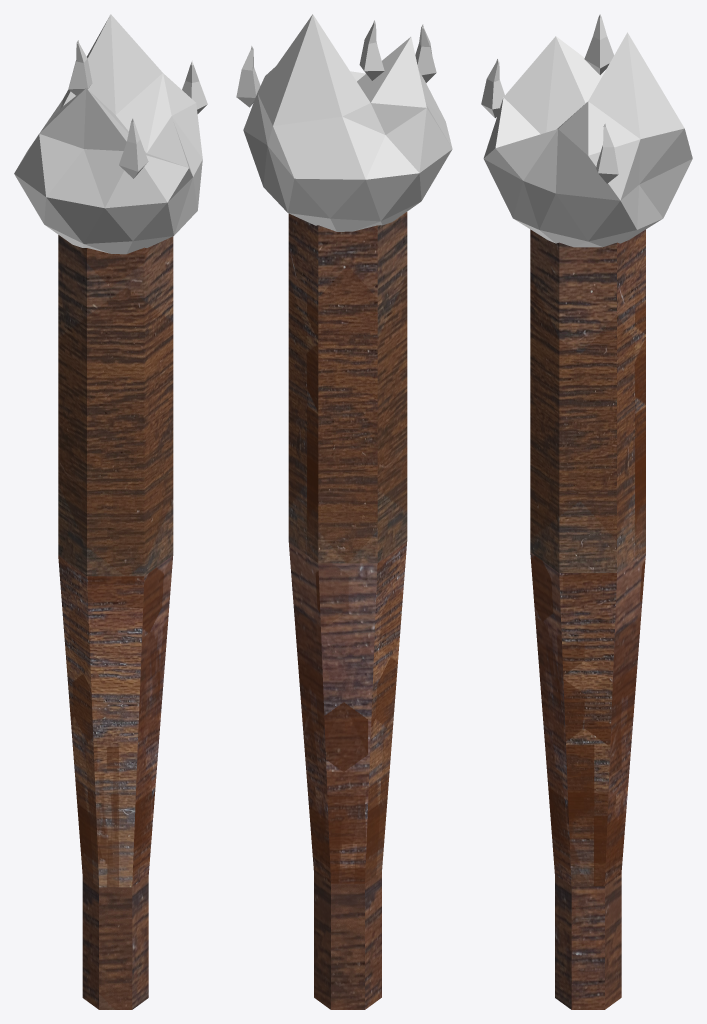
File: torch.fbx
3 views of the same model, side by side, from view 1: azimuth 30°, elevation 25°; view 2: azimuth 150°, elevation 25°; view 3: azimuth 270°, elevation 25° (orthographic). The views are drawn at different scales.
Parts seen in each view (by area): view 1: Cylinder, Icosphere, Cone.001, Cone, Cone.002; view 2: Cylinder, Icosphere, Cone, Cone.002, Cone.001; view 3: Cylinder, Icosphere, Cone, Cone.001, Cone.002.
Boxes of the visible parts, x1,y1,x2,y2 form: Cylinder: (58, 235, 173, 1009); Icosphere: (14, 14, 202, 254); Cone.001: (119, 118, 148, 178); Cone: (68, 40, 92, 95); Cone.002: (182, 61, 207, 113); Cylinder: (288, 212, 407, 1009); Icosphere: (243, 14, 452, 231); Cone: (359, 20, 384, 80); Cone.002: (236, 46, 260, 107); Cone.001: (415, 24, 436, 82); Cylinder: (530, 229, 645, 1009); Icosphere: (483, 32, 692, 247); Cone: (584, 14, 613, 74); Cone.001: (481, 58, 504, 117); Cone.002: (596, 123, 618, 183).
Bounding box in the file's own units: 203 × 1026 × 202.
